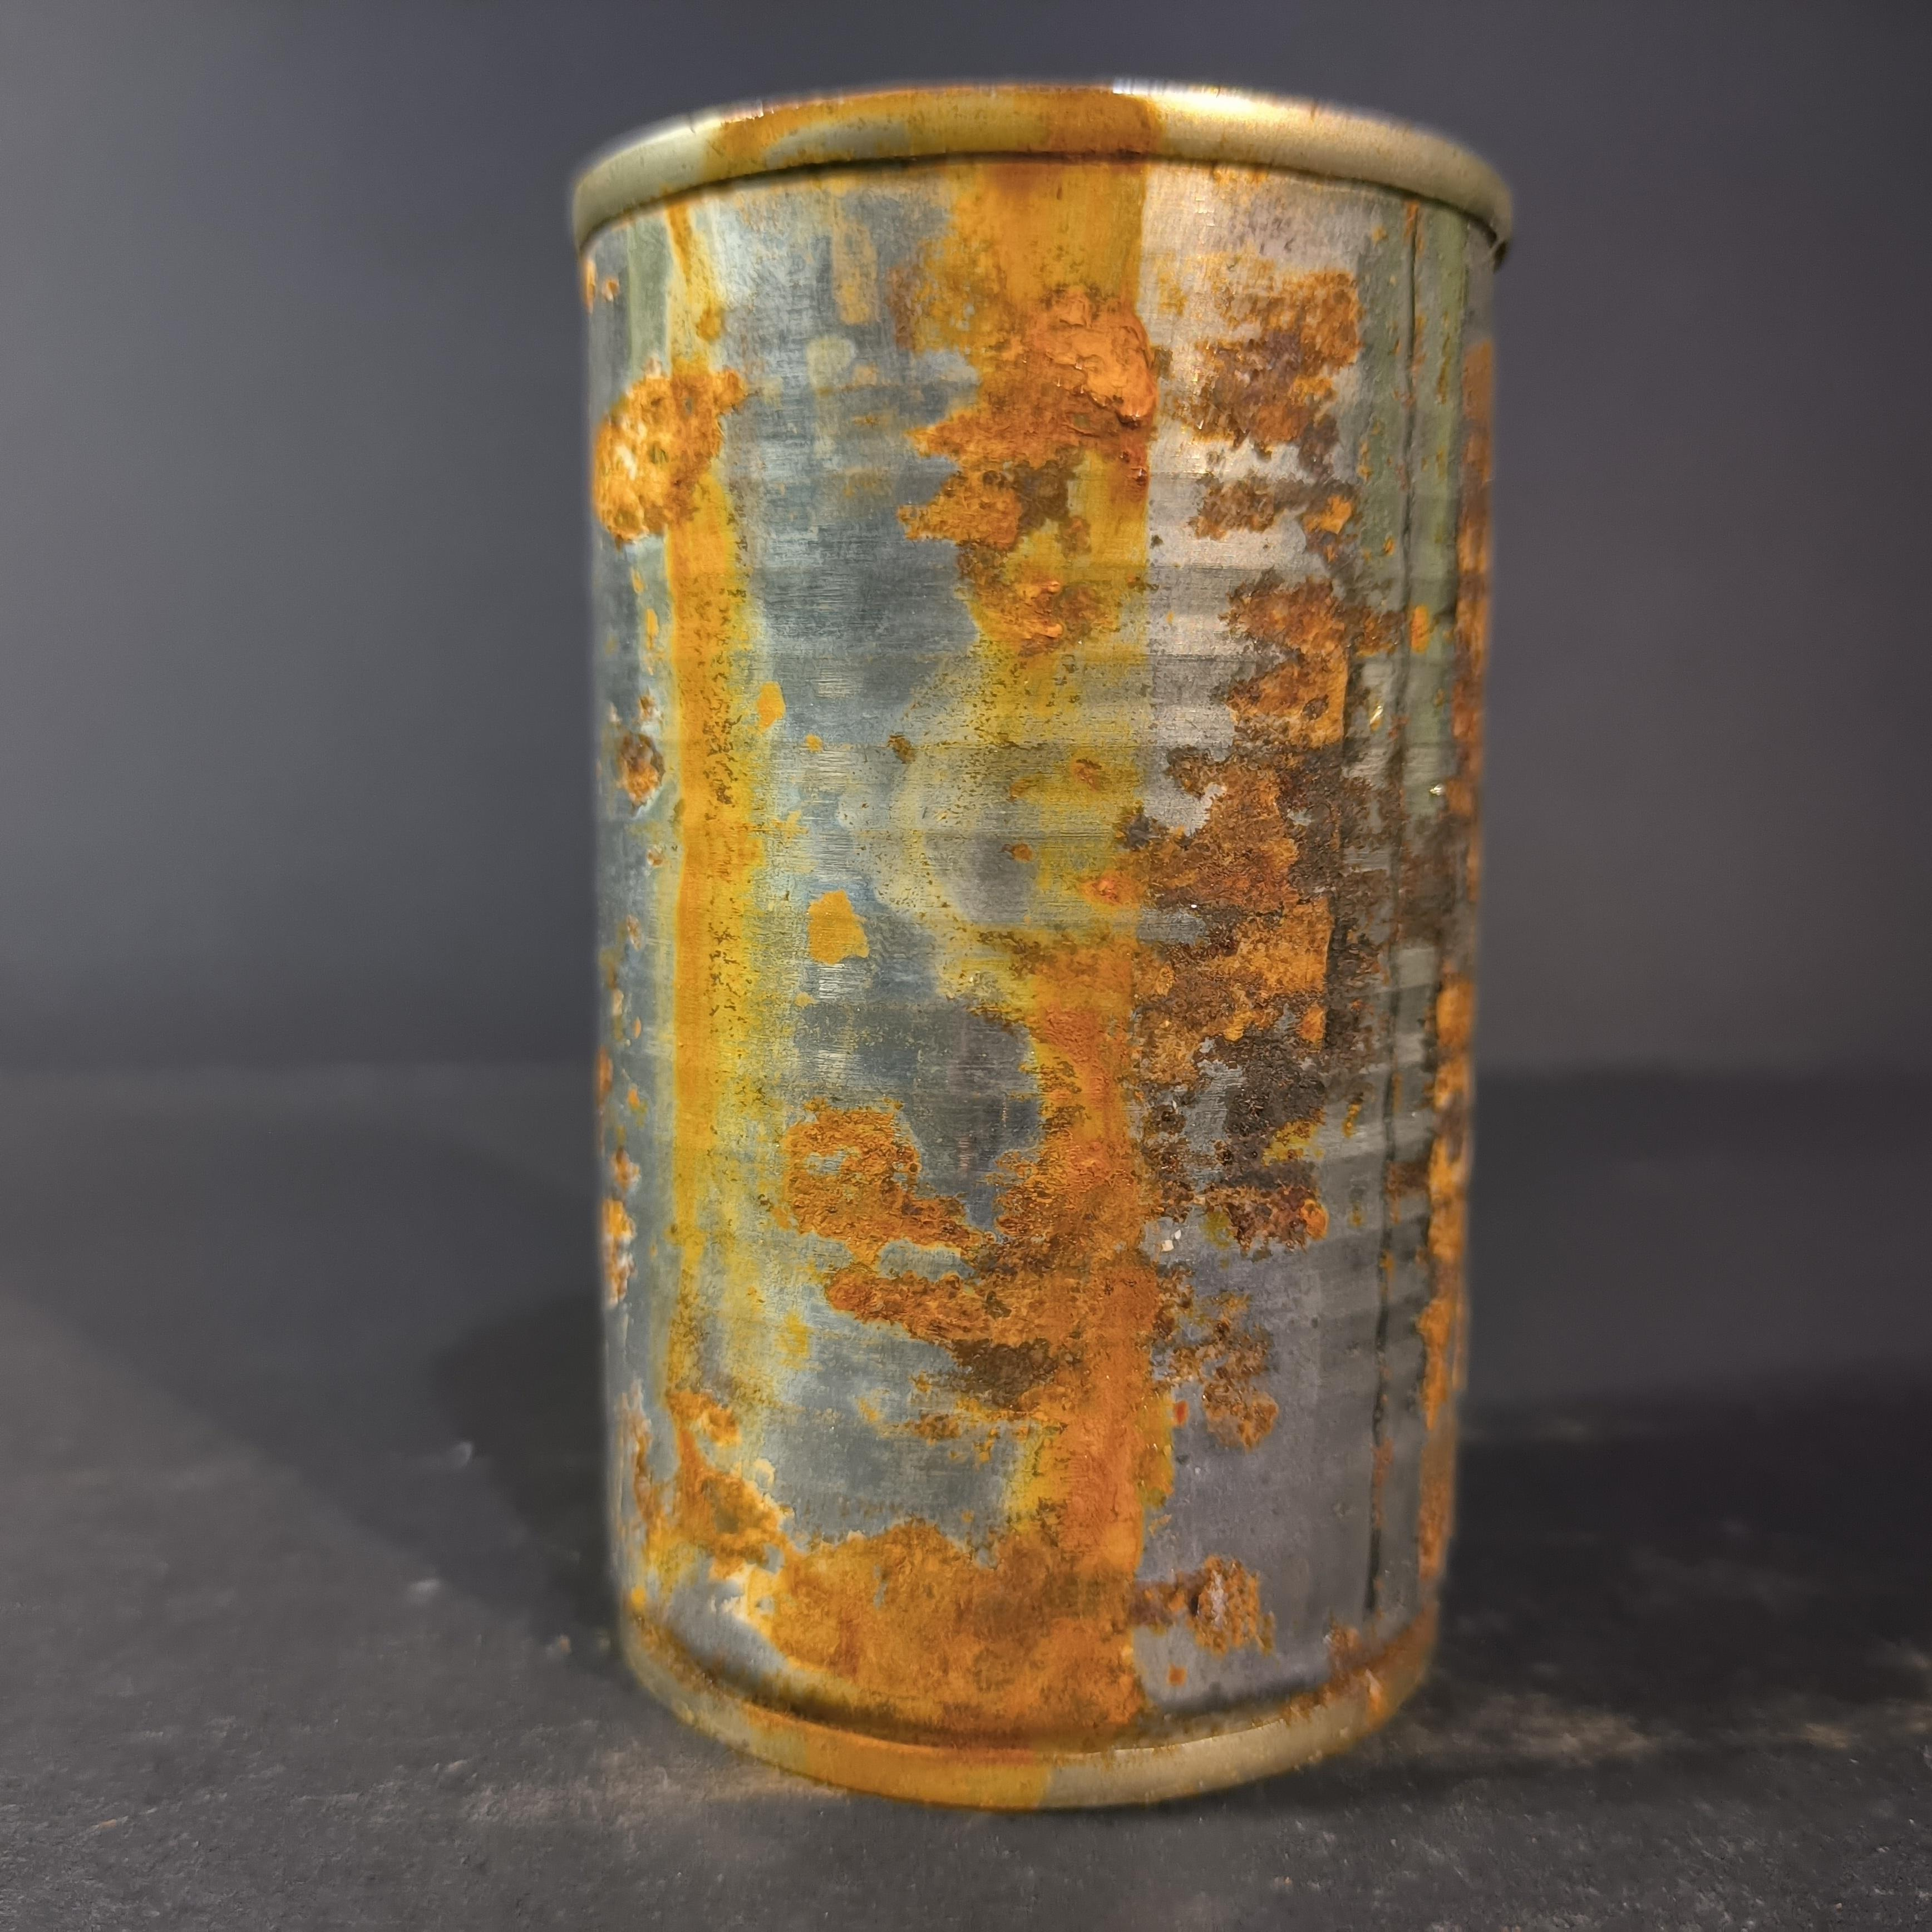Rusted: (557, 50, 1513, 1817)
